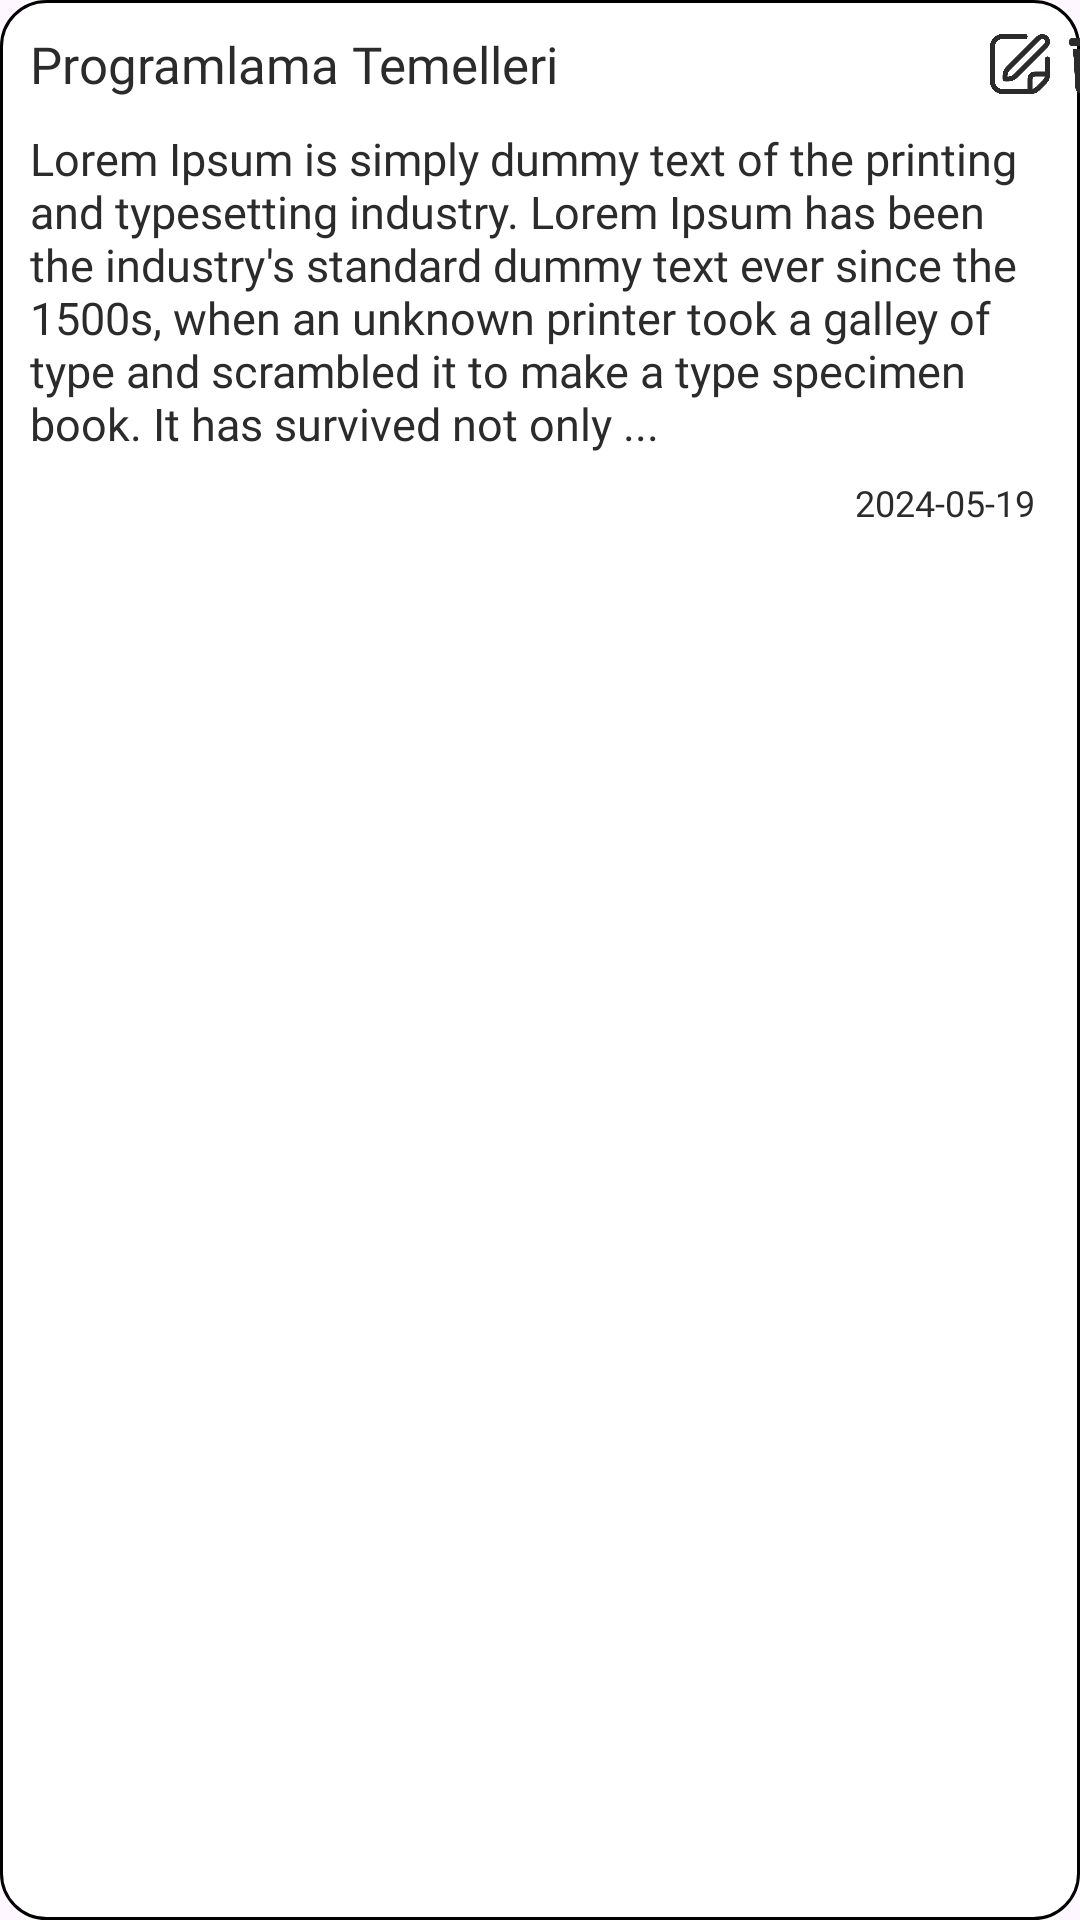

Named icons in this screenshot (1080 x 1920) and their centers, [x,y]:
edit: [1020,64]
